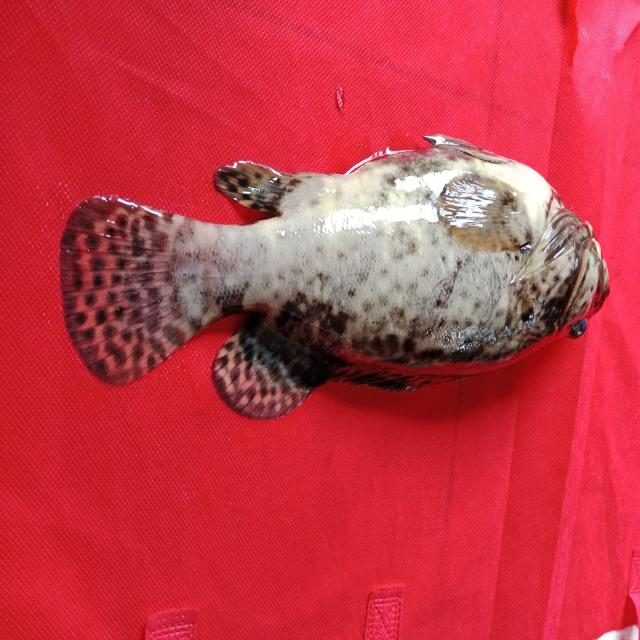ikan: (31, 97, 622, 435)
